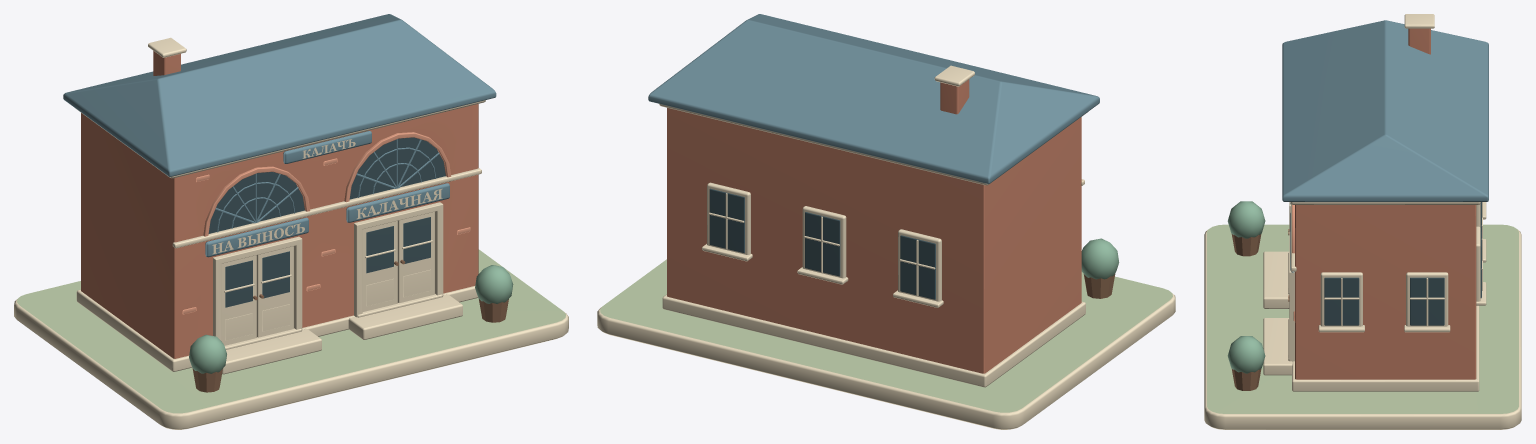
The model's file is kalachnaya.glb.
The picture shows the model from 3 angles, left to right: view 1: azimuth 30°, elevation 25°; view 2: azimuth 150°, elevation 25°; view 3: azimuth 270°, elevation 25°; orthographic projection. The views are drawn at different scales.
Parts seen in each view (by area): view 1: kalachnaya · soft low-poly; view 2: kalachnaya · soft low-poly; view 3: kalachnaya · soft low-poly.
Boxes of the visible parts, bbox=[...] form: kalachnaya · soft low-poly: bbox=[14, 14, 568, 429]; kalachnaya · soft low-poly: bbox=[597, 14, 1175, 429]; kalachnaya · soft low-poly: bbox=[1204, 14, 1521, 429].
Bounding box in the file's own units: 6 × 3.96 × 4.2.
